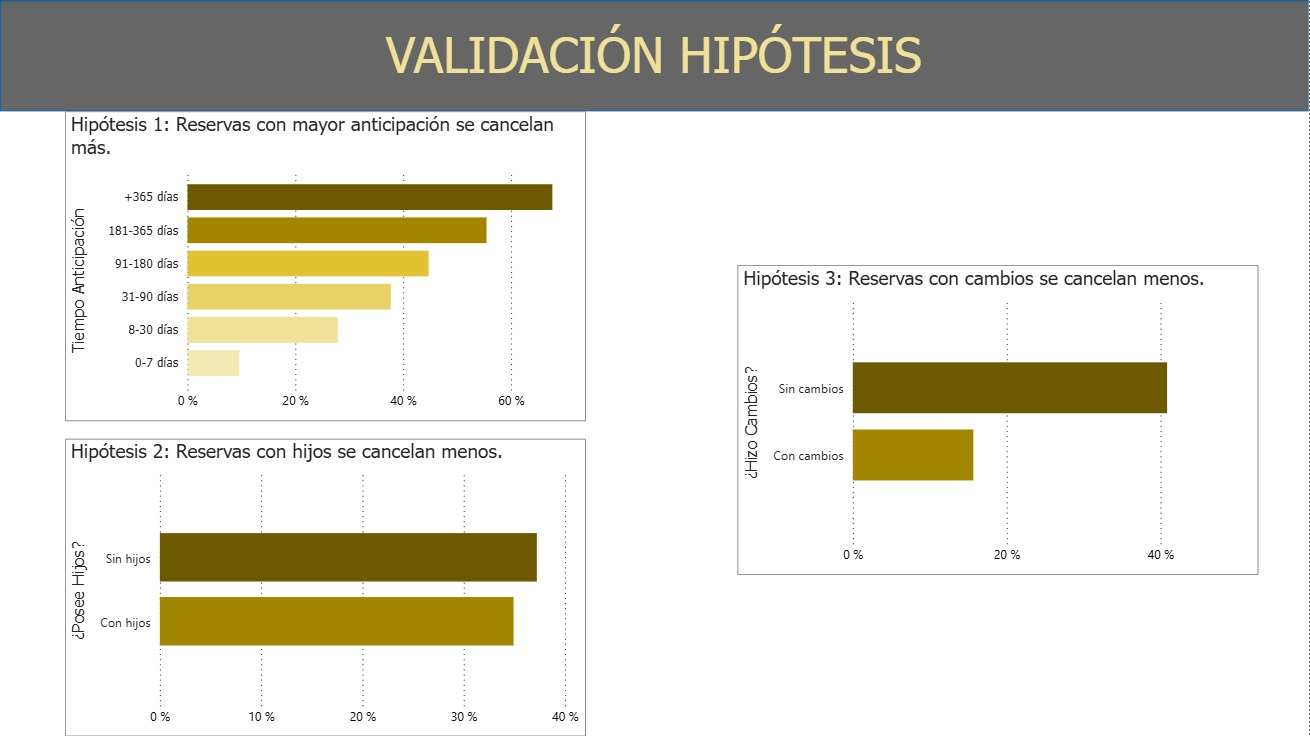

Layout of this report page (visuals, bound fields, positions):
{"tool":"powerbi","page":{"name":"Validación de Hipótesis","canvas":[1280,720],"ordinal":2},"visuals":[{"type":"shape","box":[10,0,1270.1,108.2],"z":0},{"type":"textbox","box":[363.2,18.3,552.7,70.9],"z":1000},{"type":"clusteredBarChart","title":"Hipótesis 1: Reservas con mayor anticipación se cancelan más.","fields":{"Category":["fact_reservas.rango_anticipacion"],"Y":["_Métricas.004 % Tasa Cancelacion"]},"box":[63.5,108.3,509.5,303.1],"z":2000},{"type":"clusteredBarChart","title":"Hipótesis 2: Reservas con hijos se cancelan menos.","fields":{"Category":["fact_reservas.tiene_hijos"],"Y":["_Métricas.004 % Tasa Cancelacion"]},"box":[63.5,428.7,509.5,291.6],"z":3000},{"type":"clusteredBarChart","title":"Hipótesis 3: Reservas con cambios se cancelan menos.","fields":{"Category":["fact_reservas.tiene_cambios"],"Y":["_Métricas.004 % Tasa Cancelacion"]},"box":[721.7,259.8,509.5,303.1],"z":6000}]}

Visuals, with their boxes in screenshot pixels (x1, y1, x2, y2), scaled from the page's 1280x720 canvas onto the 1310x736 screenshot:
shape: <bbox>10, 0, 1309, 111</bbox>
textbox: <bbox>372, 19, 937, 91</bbox>
"Hipótesis 1: Reservas con mayor anticipación se cancelan más." clusteredBarChart: <bbox>65, 111, 586, 421</bbox>
"Hipótesis 2: Reservas con hijos se cancelan menos." clusteredBarChart: <bbox>65, 438, 586, 735</bbox>
"Hipótesis 3: Reservas con cambios se cancelan menos." clusteredBarChart: <bbox>739, 266, 1260, 575</bbox>
